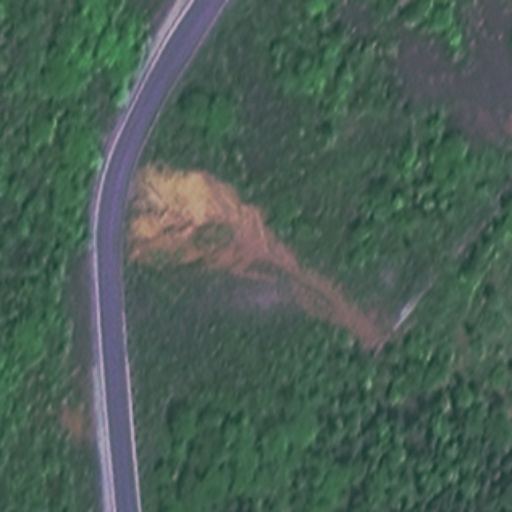landslide: (129, 162, 386, 340)
